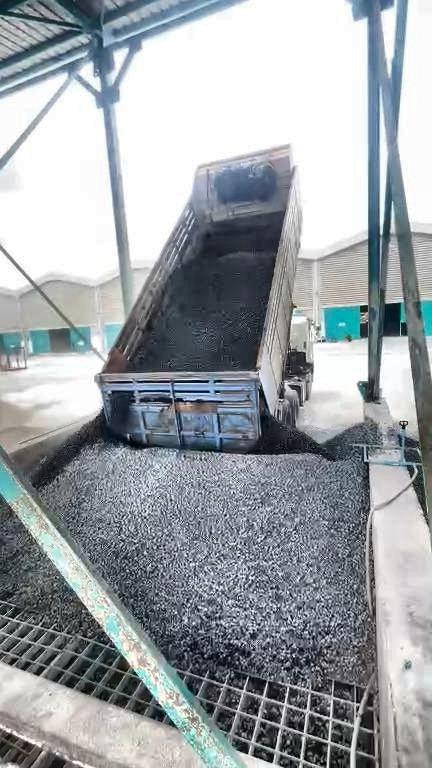gravel: (30, 408, 383, 683), (133, 225, 279, 371), (1, 502, 90, 633), (411, 464, 430, 530)
sand: (1, 397, 56, 451)
